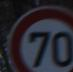Speed Limit -70-: (0, 0, 72, 71)
